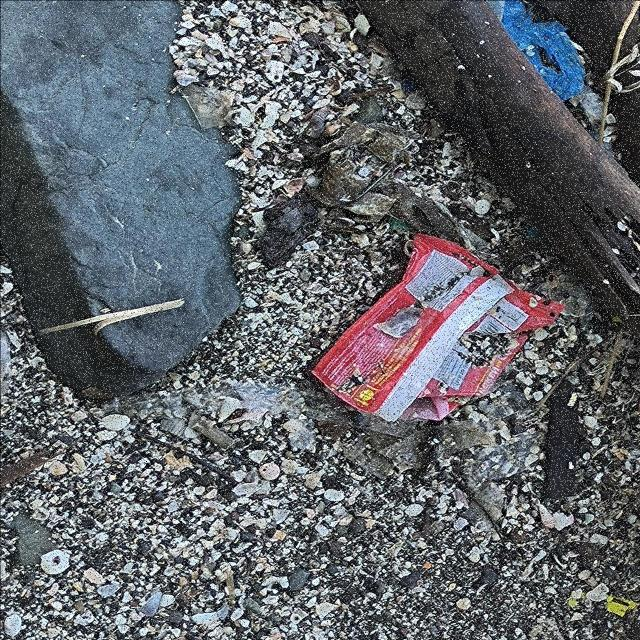plastic_waste: (310, 233, 568, 424)
